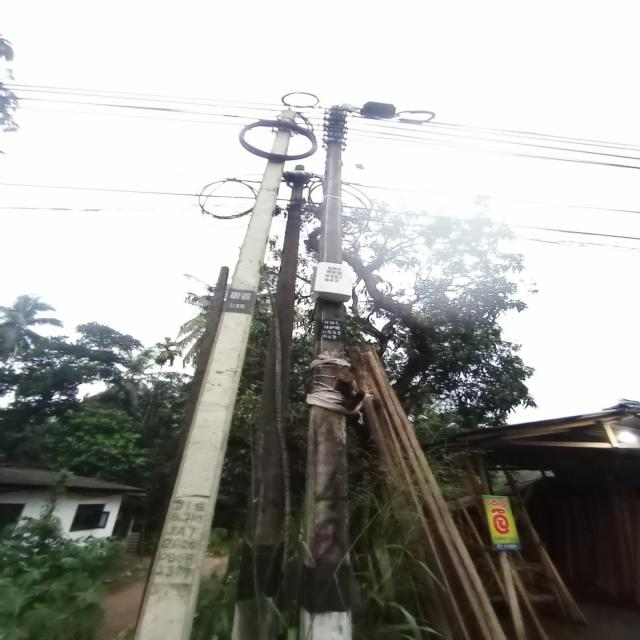light_pole: (122, 87, 298, 640), (298, 89, 379, 640)
